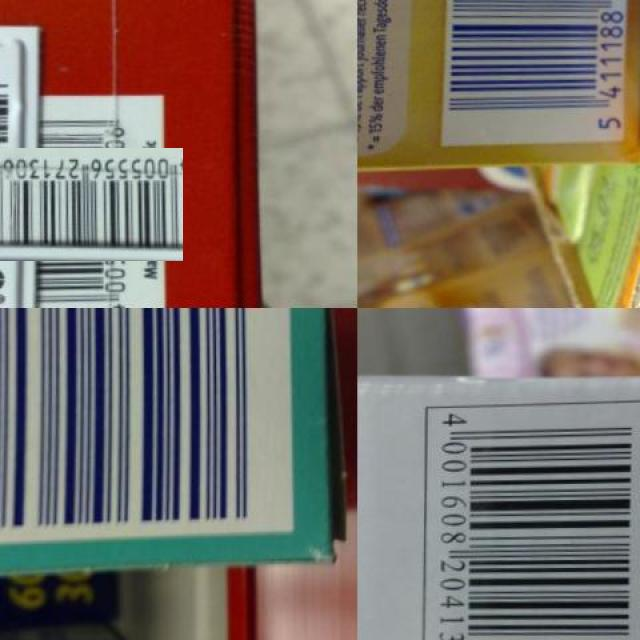Barcode: (0, 308, 292, 552), (416, 403, 640, 640), (434, 0, 630, 150), (0, 125, 159, 285)
